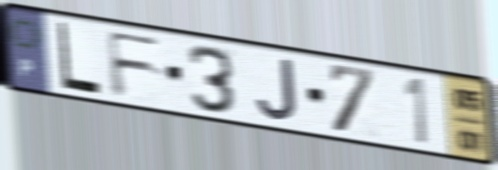1: (402, 77, 431, 149)
3: (186, 43, 239, 116)
7: (326, 62, 378, 136)
F: (103, 28, 167, 99)
J: (254, 57, 301, 124)
L: (56, 19, 103, 97)
